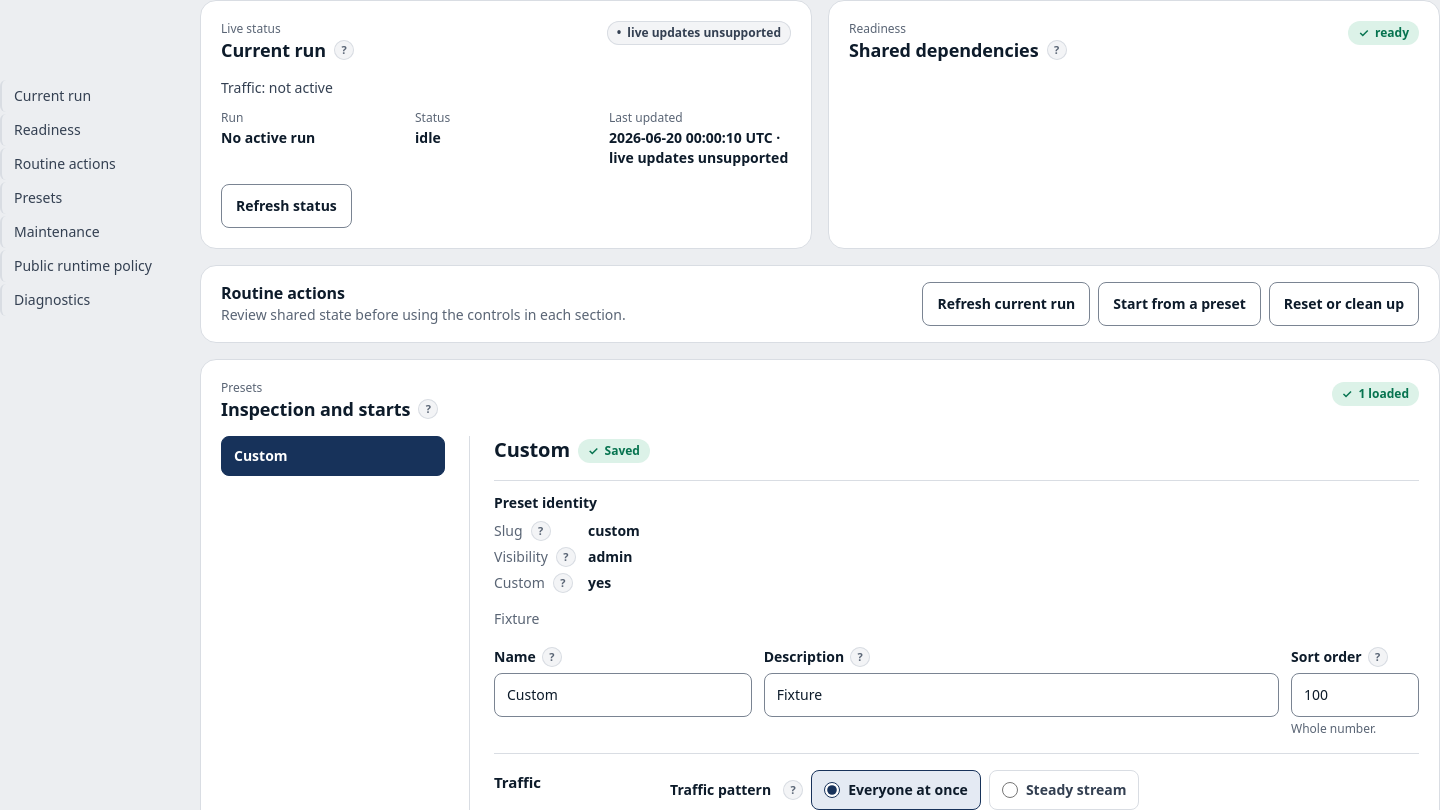
Test case: admin feature controllers › labels unsupported live updates and blocks start
The width and height of the screenshot is (1440, 810).
Click the button "Refresh status". click: {"x": 286, "y": 206}
box: x1=221 y1=184 x2=352 y2=228
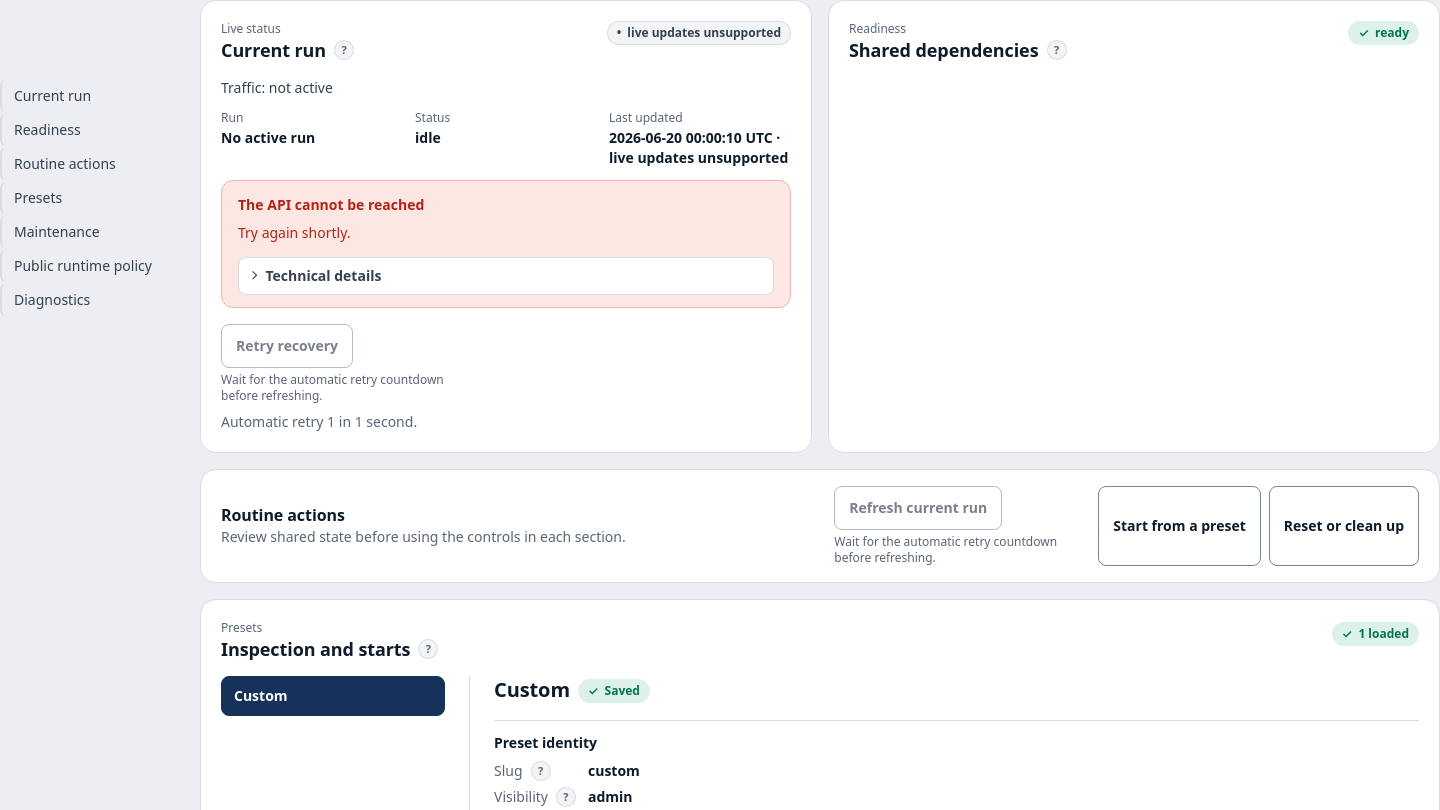
Expected: the text "2026-06-20 00:00:10 UTC · live updates unsupported" is shown, x1=609 y1=128 x2=791 y2=168
Now the text "The API cannot be reached" is shown, box x1=238 y1=194 x2=424 y2=214
